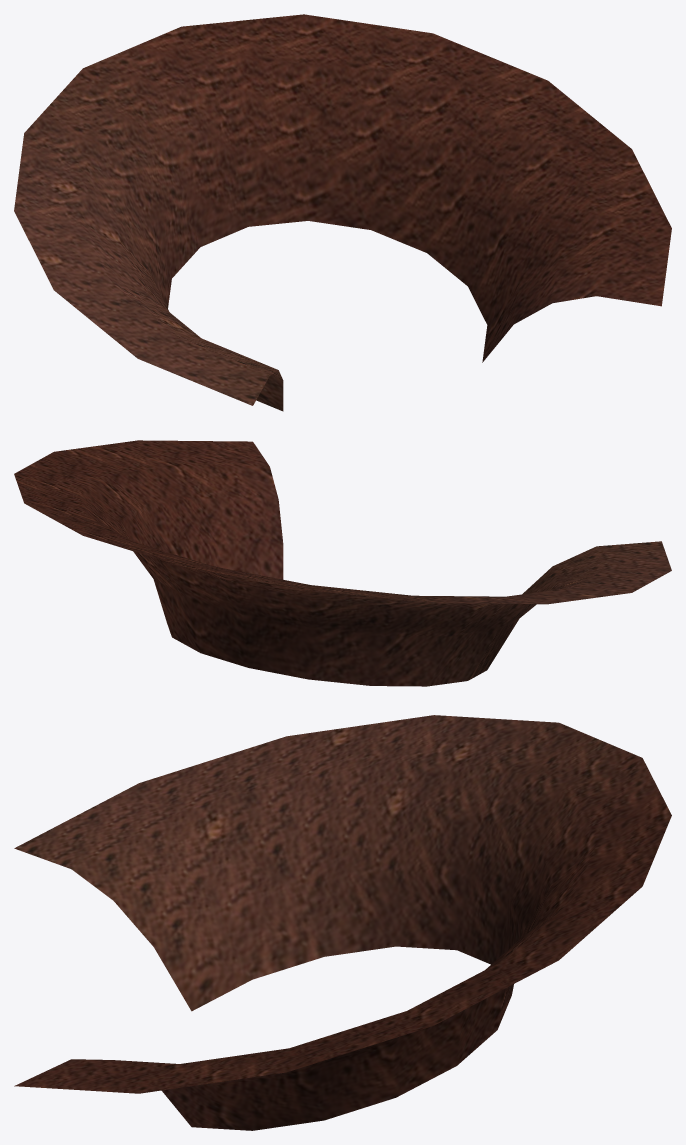
Rendered from DirtHole.fbx.
3 renders of one model, top to bottom at view 1: azimuth 30°, elevation 25°; view 2: azimuth 150°, elevation 25°; view 3: azimuth 270°, elevation 25°, orthographic. The views are drawn at different scales.
Visible parts, largest first — view 1: DirtHole; view 2: DirtHole; view 3: DirtHole.
Boxes of the visible parts, left/top/right/bottom form: DirtHole: left=14, top=14, right=671, bottom=411; DirtHole: left=14, top=440, right=671, bottom=686; DirtHole: left=14, top=715, right=671, bottom=1130.
Bounding box in the file's own units: 0.6384 × 0.528 × 0.2248.
